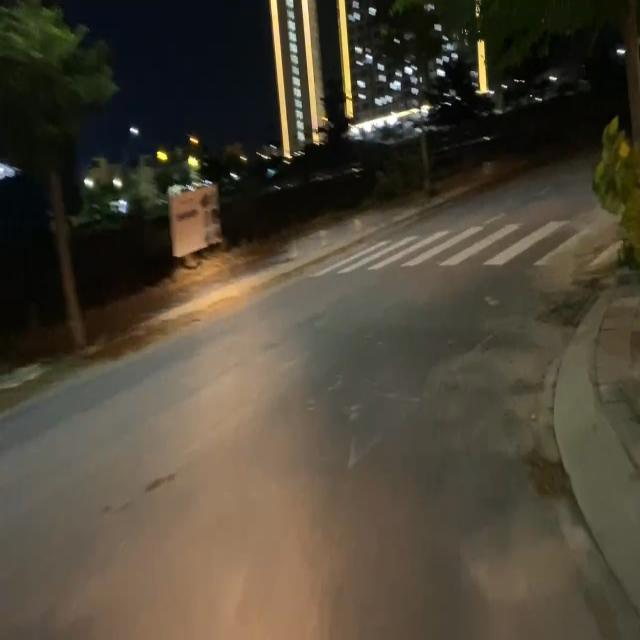walk-crossing: (310, 214, 600, 274)
